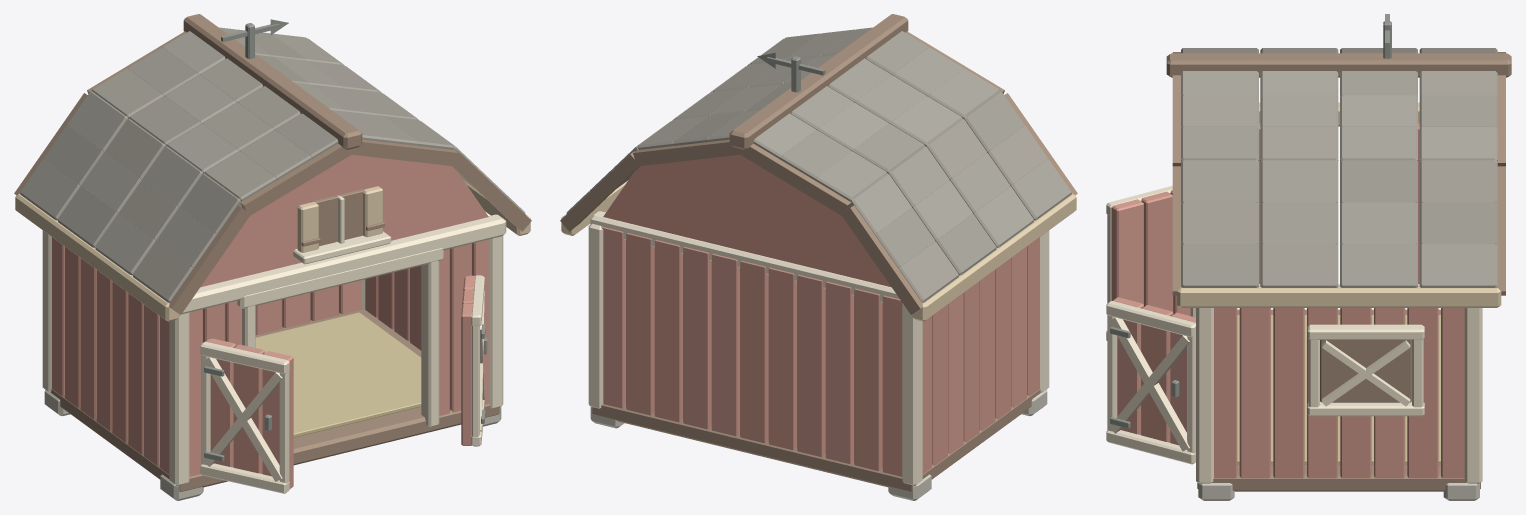
Rendered from crafted-barn-1-ready.glb.
The picture shows the model from 3 angles, left to right: view 1: azimuth 30°, elevation 25°; view 2: azimuth 150°, elevation 25°; view 3: azimuth 270°, elevation 25°; orthographic projection. The views are drawn at different scales.
Visible parts, largest first — view 1: gable-1, hay-floor, floor, header-1, ridge-cap, corner-post-1, eave-fascia, door-frame-1, corner-post-3, door-top, siding-13, siding-14 (+73 smaller); view 2: gable, floor, siding-4, siding-2, siding-6, siding-7, siding-9, siding-5, siding-8, siding-1, siding-3, ridge-cap (+53 smaller); view 3: eave-fascia-1, ridge-cap, siding-24, siding-25, side-window-dark, siding-19, siding-26, siding-20, floor, roof-tile-44, roof-tile-46, roof-tile-45 (+51 smaller).
Boxes of the visible parts, left/top/right/bottom form: gable-1: left=200, top=154, right=488, bottom=287; hay-floor: left=255, top=312, right=421, bottom=437; floor: left=50, top=309, right=499, bottom=491; header-1: left=182, top=214, right=506, bottom=314; ridge-cap: left=183, top=14, right=362, bottom=149; corner-post-1: left=169, top=312, right=189, bottom=485; eave-fascia: left=15, top=193, right=179, bottom=321; door-frame-1: left=421, top=260, right=439, bottom=427; corner-post-3: left=488, top=235, right=503, bottom=408; door-top: left=237, top=248, right=443, bottom=308; siding-13: left=80, top=258, right=96, bottom=419; siding-14: left=96, top=270, right=112, bottom=430; gable: left=603, top=154, right=891, bottom=287; floor: left=592, top=389, right=1041, bottom=491; siding-4: left=768, top=267, right=796, bottom=450; siding-2: left=825, top=281, right=853, bottom=463; siding-6: left=711, top=253, right=739, bottom=436; siding-7: left=683, top=246, right=711, bottom=429; siding-9: left=626, top=233, right=654, bottom=415; siding-5: left=740, top=260, right=768, bottom=443; siding-8: left=654, top=240, right=682, bottom=422; siding-1: left=854, top=288, right=882, bottom=470; siding-3: left=797, top=274, right=825, bottom=457; ridge-cap: left=729, top=14, right=908, bottom=149; eave-fascia-1: left=1177, top=284, right=1501, bottom=307; ridge-cap: left=1166, top=53, right=1511, bottom=77; siding-24: left=1273, top=308, right=1304, bottom=478; siding-25: left=1239, top=308, right=1270, bottom=478; side-window-dark: left=1320, top=340, right=1411, bottom=402; siding-19: left=1441, top=308, right=1464, bottom=478; siding-26: left=1214, top=308, right=1237, bottom=478; siding-20: left=1407, top=308, right=1438, bottom=478; floor: left=1197, top=309, right=1480, bottom=491; roof-tile-44: left=1419, top=244, right=1497, bottom=287; roof-tile-46: left=1260, top=244, right=1338, bottom=287; roof-tile-45: left=1340, top=244, right=1417, bottom=287.
Size of the model in its own units: 2.33 by 2.28 by 2.12.
